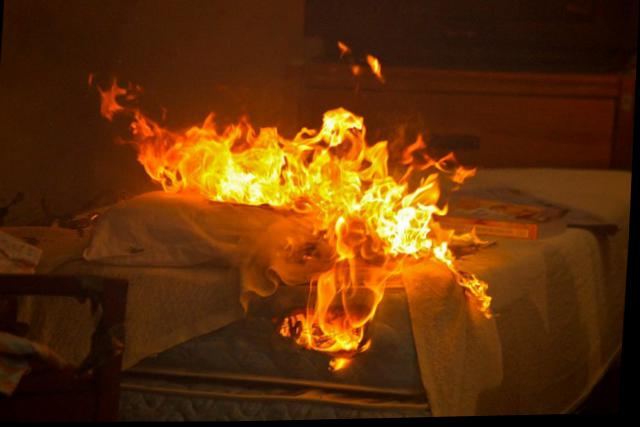fire: (78, 44, 524, 366)
